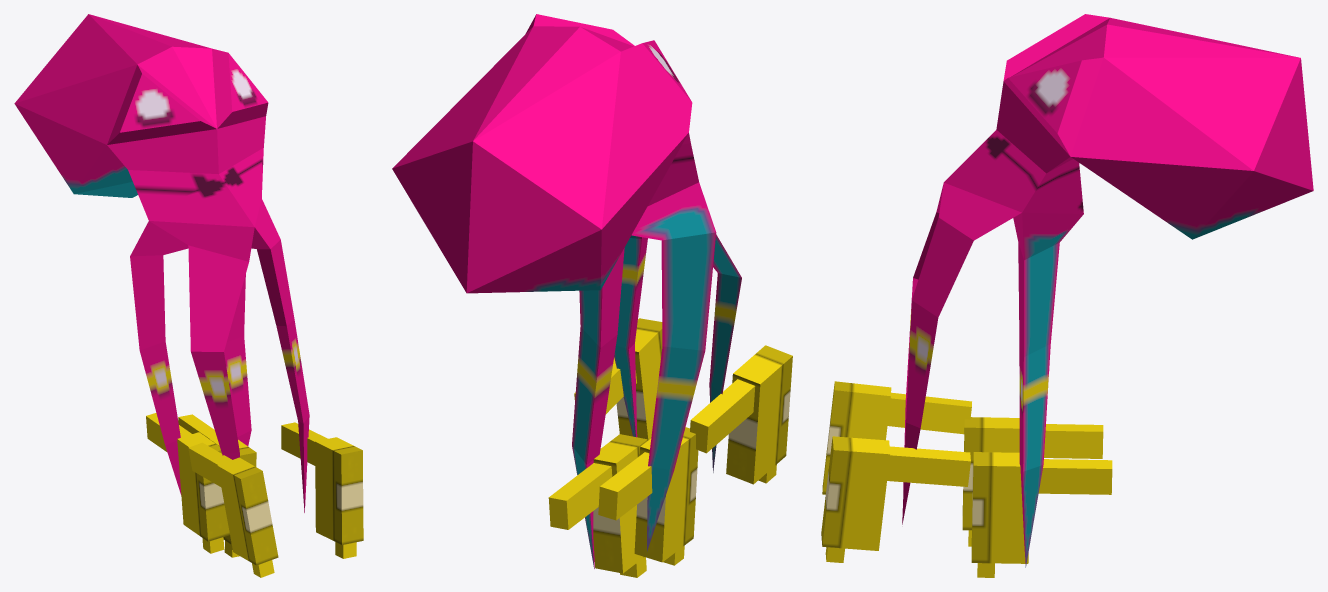
The model's file is octopusMinigun.obj.
3 views of the same model, side by side, from view 1: azimuth 30°, elevation 25°; view 2: azimuth 150°, elevation 25°; view 3: azimuth 270°, elevation 25° (orthographic). The views are drawn at different scales.
Visible parts, largest first — view 1: Icosphere_Icosphere.001; view 2: Icosphere_Icosphere.001; view 3: Icosphere_Icosphere.001.
Part boxes in pixels (<box>): Icosphere_Icosphere.001: <box>14,14,363,577</box>; Icosphere_Icosphere.001: <box>392,14,792,577</box>; Icosphere_Icosphere.001: <box>821,14,1313,577</box>.
Size of the model in its own units: 1.7 by 4.45 by 3.65.
